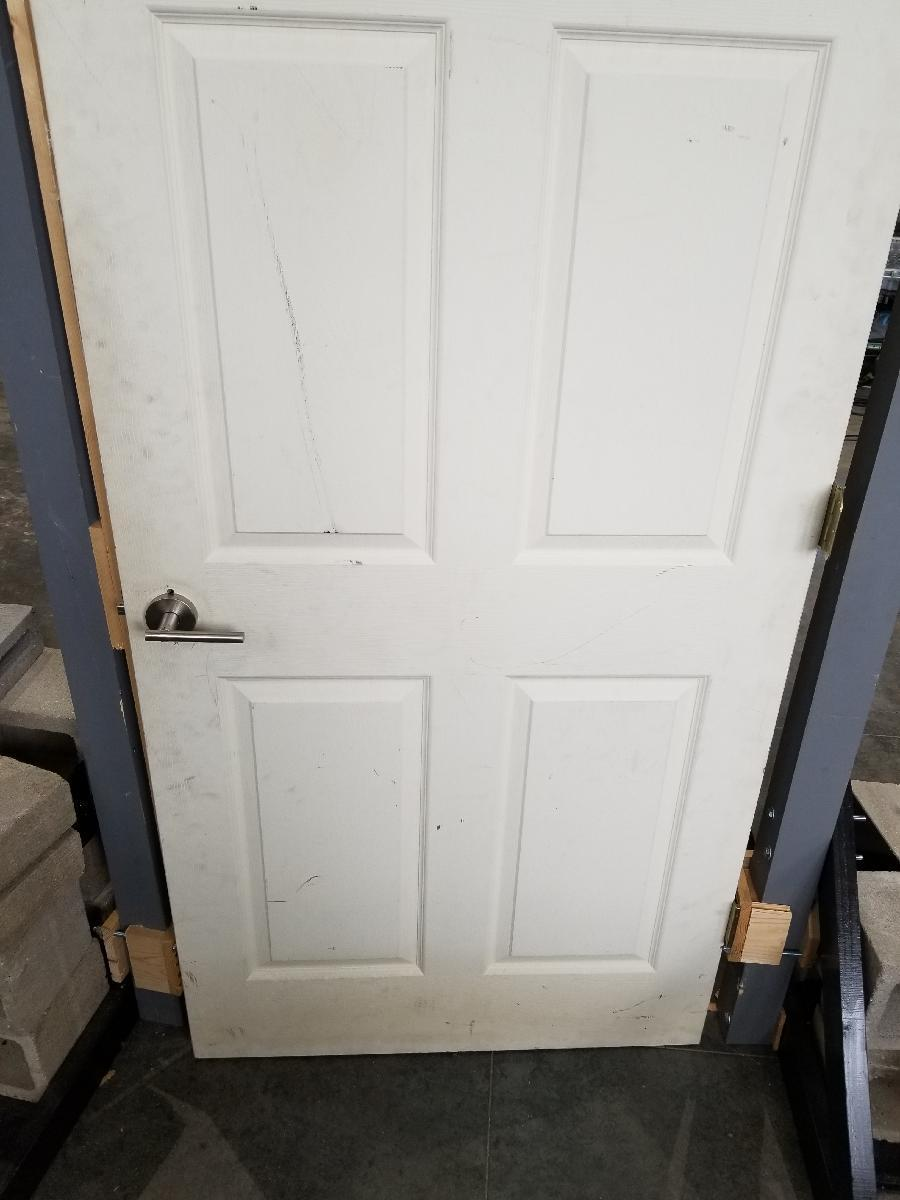door: (134, 0, 781, 1053)
handle: (144, 586, 249, 655)
